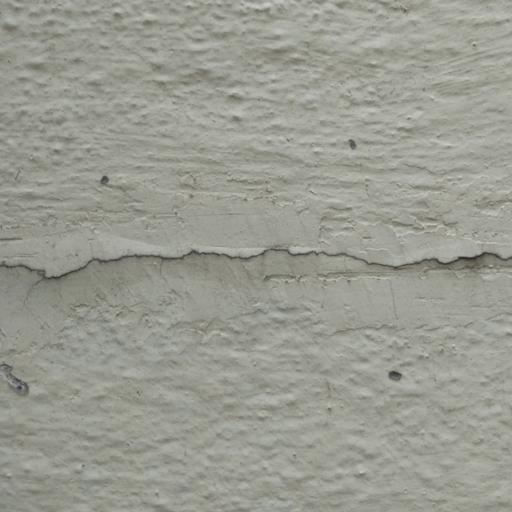minor_crack: (5, 206, 512, 317)
